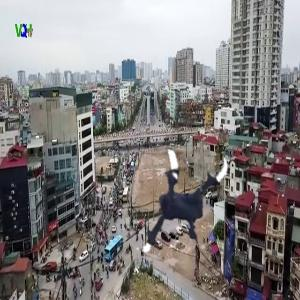drone: (112, 131, 243, 262)
